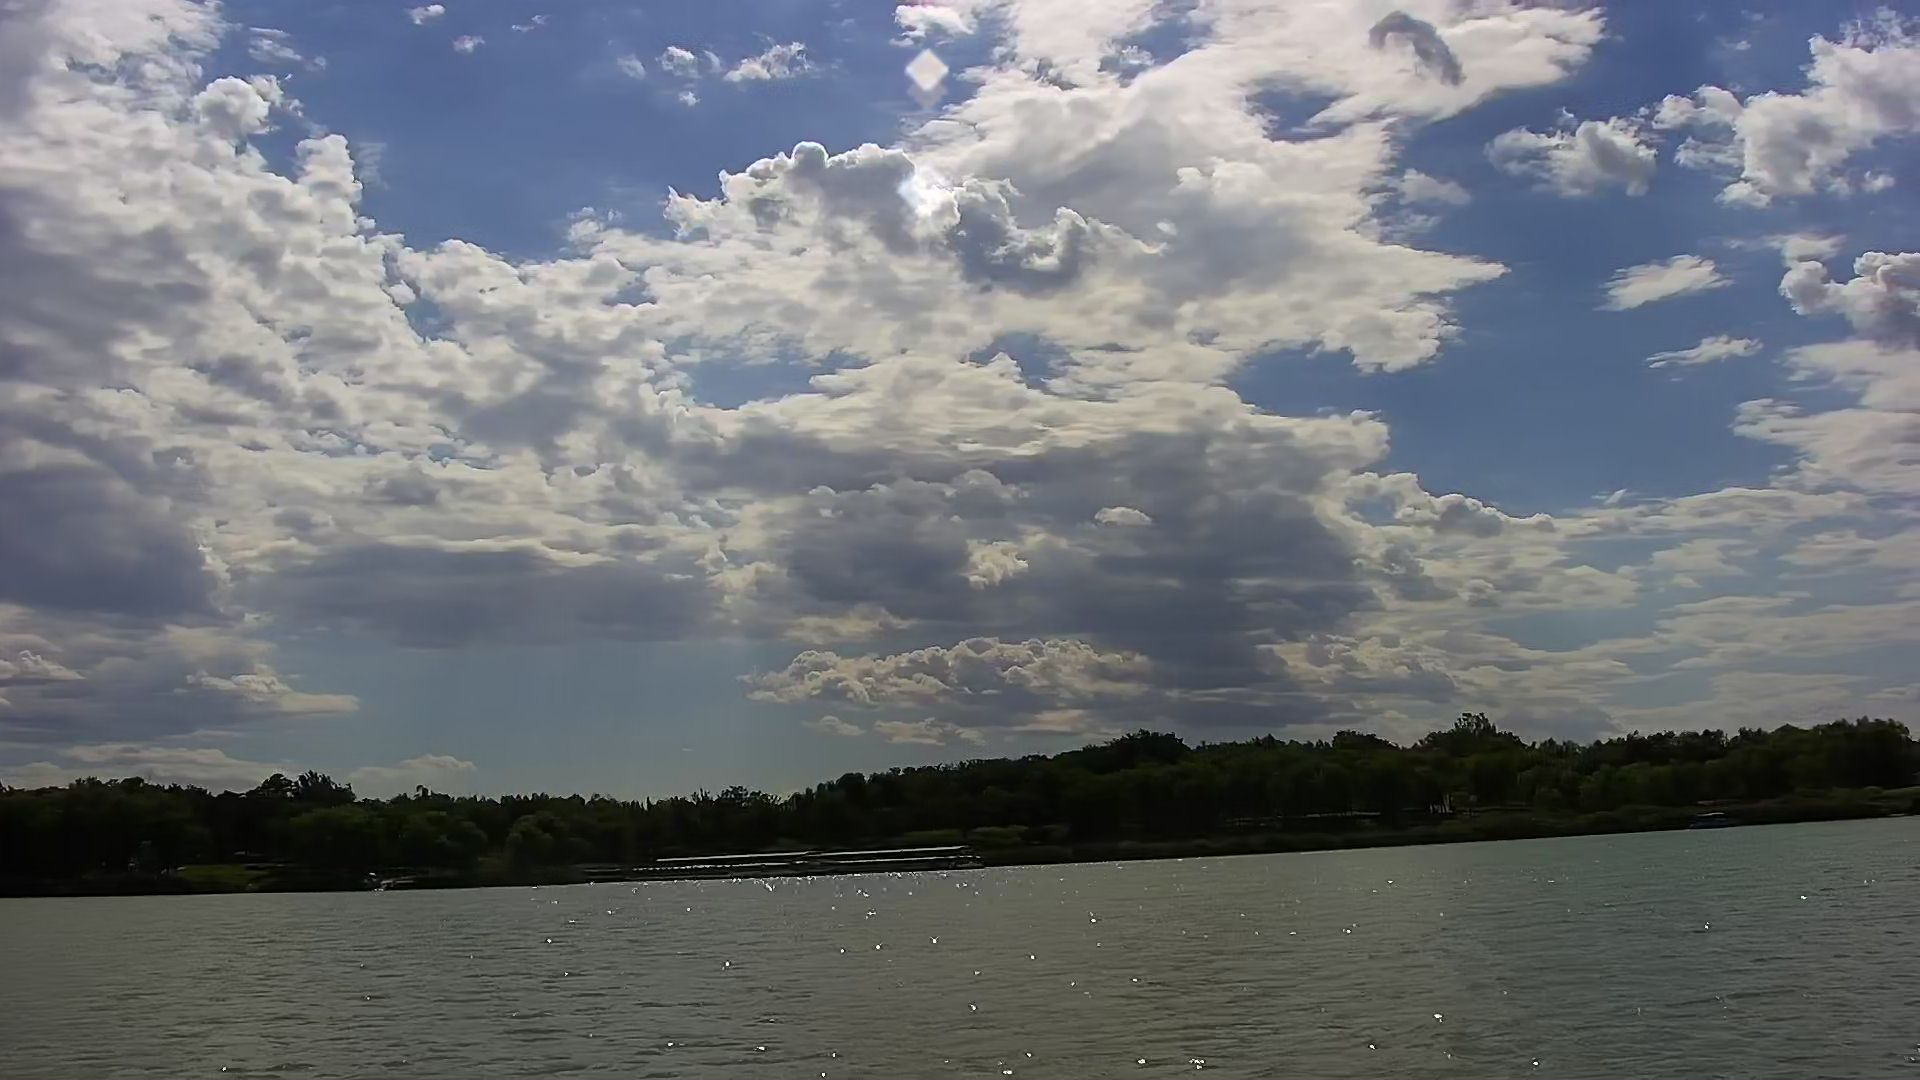harbor: (659, 843, 971, 876)
